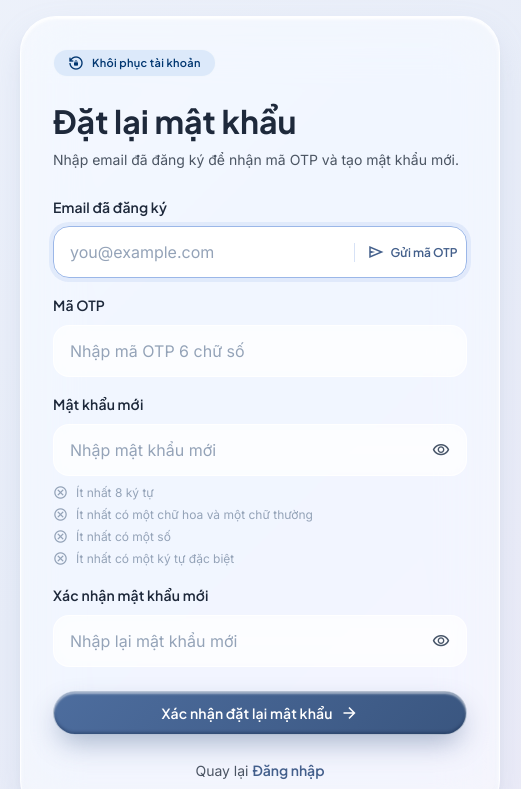
ResetPasswordPage › Send OTP flow › should show error if email is empty on send OTP
Click the button "Gửi mã OTP" at (406, 252), box x1=354 y1=243 x2=457 y2=262
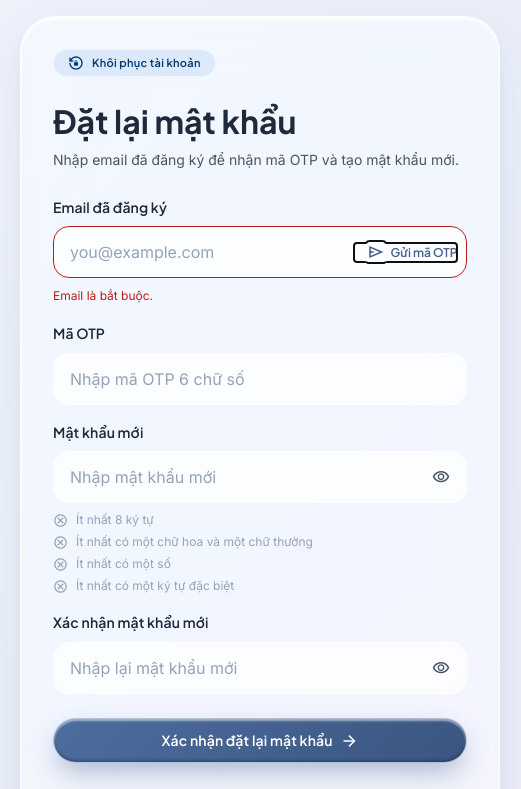
Result: the text "Email là bắt buộc." is shown at x1=53 y1=288 x2=153 y2=303
